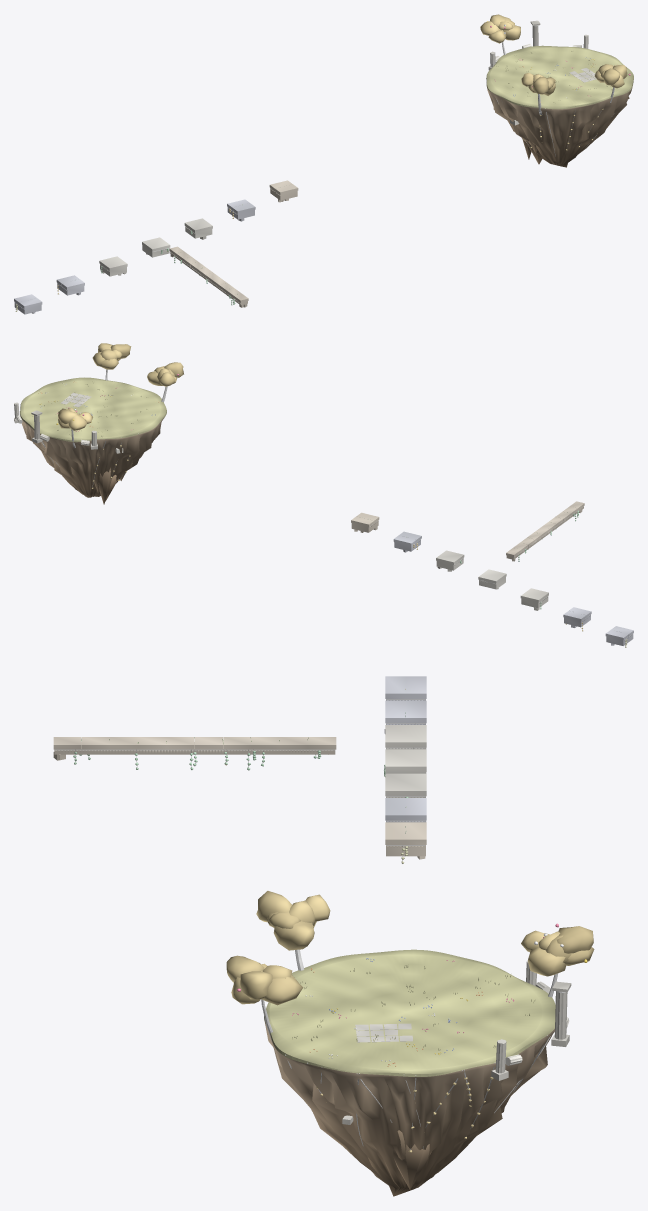
Rendered from SM_Sky_E.fbx.
3 renders of one model, top to bottom at view 1: azimuth 30°, elevation 25°; view 2: azimuth 150°, elevation 25°; view 3: azimuth 270°, elevation 25°, orthographic. The views are drawn at different scales.
Visible parts, largest first — view 1: SM_Sky_E; view 2: SM_Sky_E; view 3: SM_Sky_E.
Boxes of the visible parts, x1,y1,x2,y2 form: SM_Sky_E: [14, 14, 633, 314]; SM_Sky_E: [14, 343, 633, 647]; SM_Sky_E: [53, 676, 594, 1196].
Size of the model in its own units: 7355 by 1638 by 2870.
